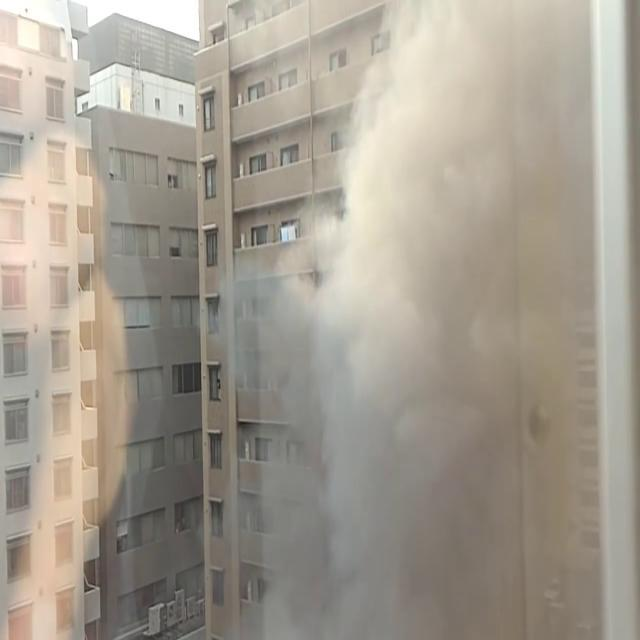Smoke: (230, 1, 592, 636)
